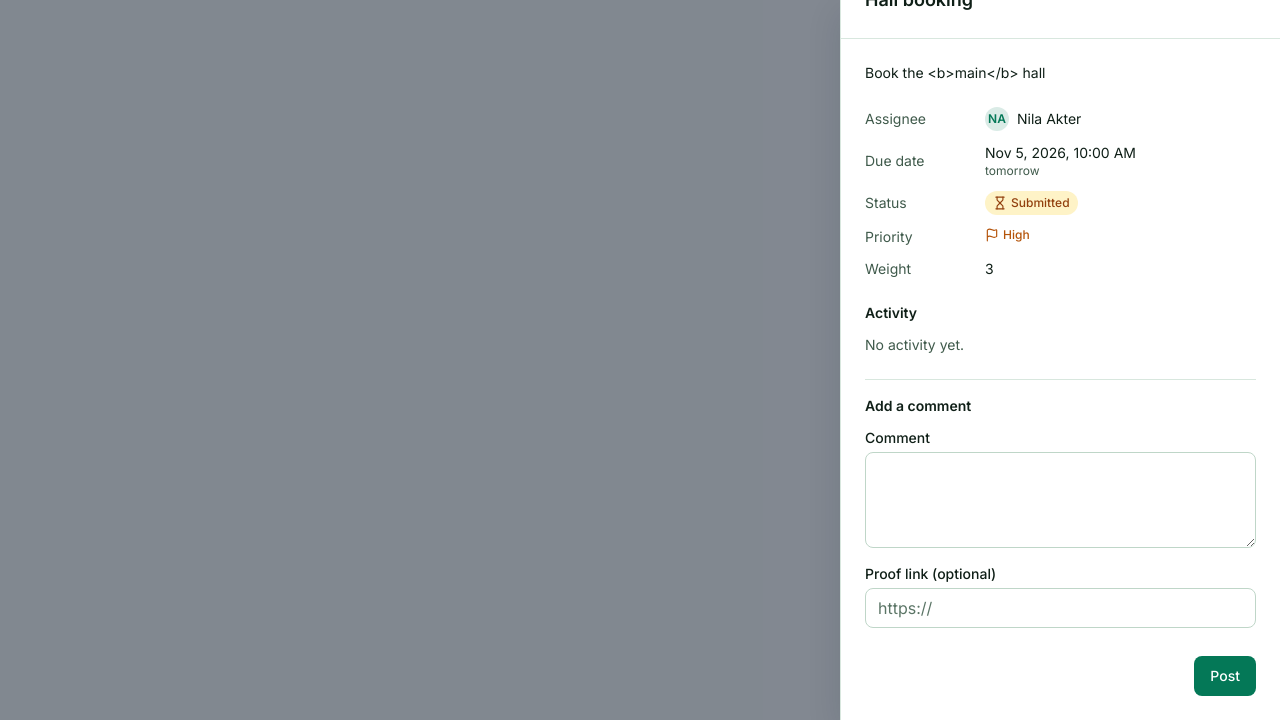
Test: Comment composer › asks for a comment when empty and does not call the action
(page scrolled)
Step 1. Click the button "Post" → (1225, 676), box x1=1194 y1=656 x2=1256 y2=696
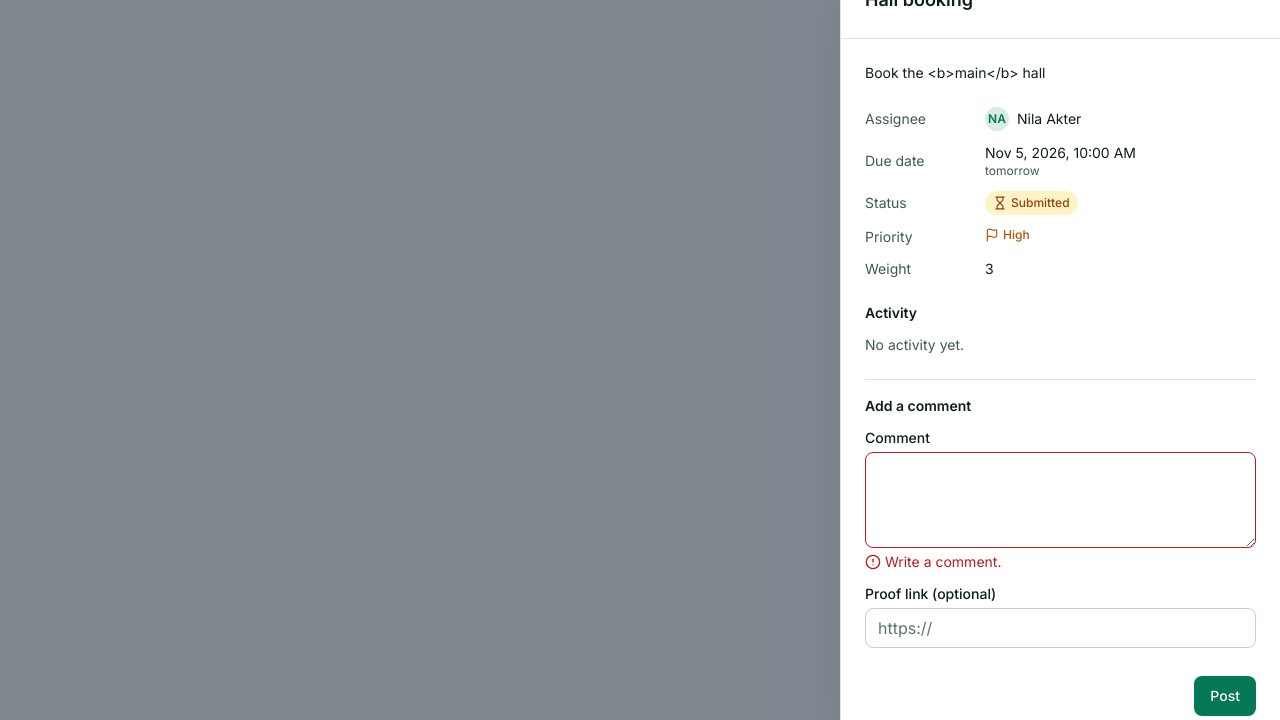
expect the text "Write a comment." is shown: met, box x1=865 y1=553 x2=1001 y2=570
